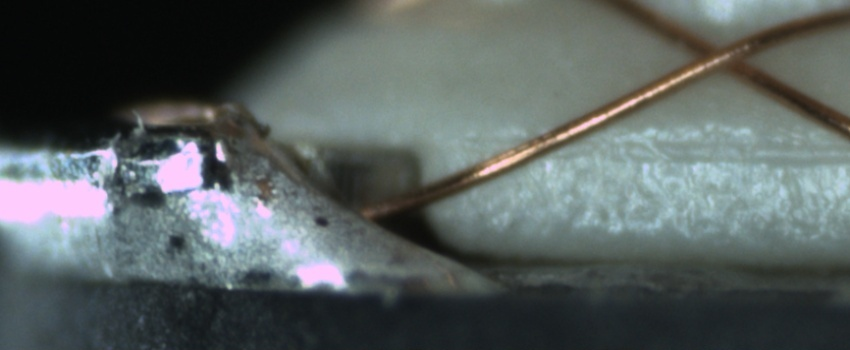CL: (675, 23, 770, 87)
DL: (476, 120, 850, 176)
